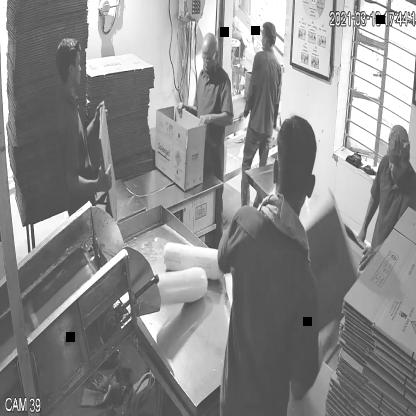no_glove: (60, 162, 124, 206), (356, 184, 382, 248), (192, 108, 236, 131)
